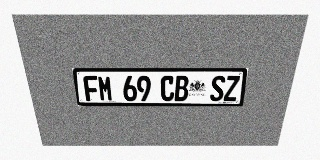6: (122, 76, 137, 101)
9: (137, 76, 151, 101)
B: (174, 76, 189, 101)
C: (161, 76, 174, 101)
F: (83, 76, 99, 101)
M: (97, 76, 113, 101)
S: (209, 76, 226, 101)
Z: (223, 76, 240, 101)
